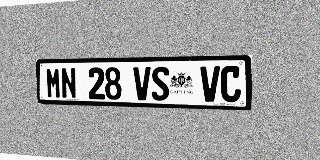2: (88, 67, 105, 99)
8: (105, 67, 122, 100)
C: (220, 66, 241, 102)
M: (46, 68, 61, 98)
N: (61, 67, 77, 99)
S: (151, 66, 169, 101)
V: (200, 66, 220, 102), (133, 67, 151, 100)
